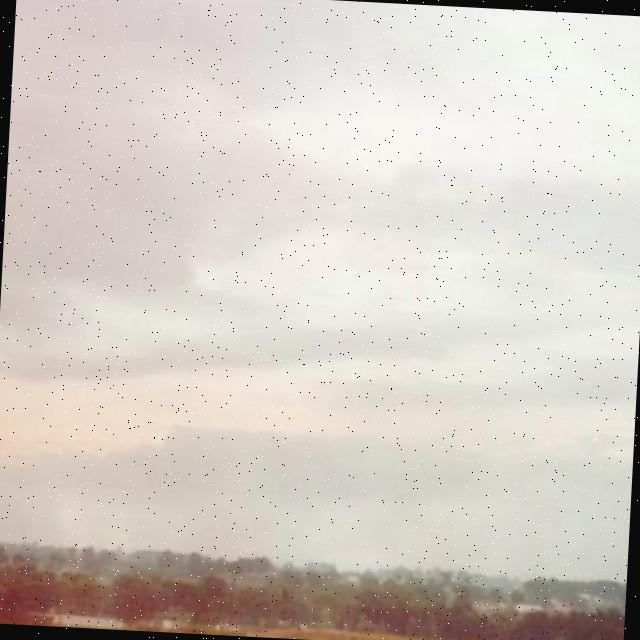St: (1, 25, 640, 493)
